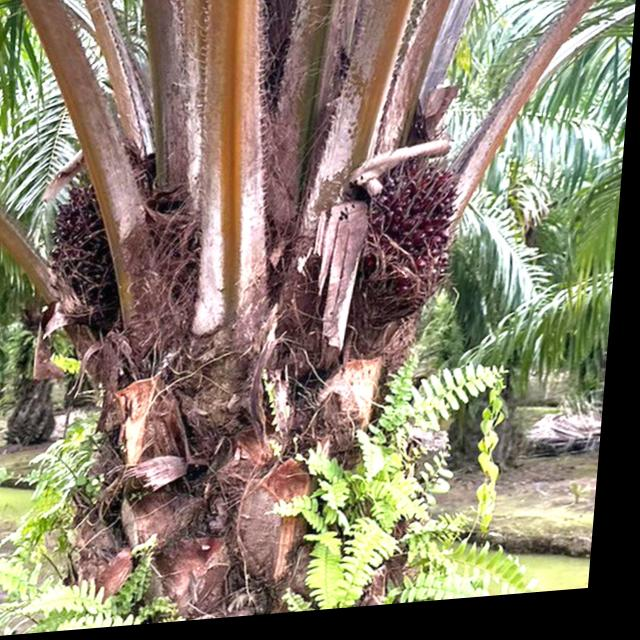ripe: (344, 163, 474, 330)
